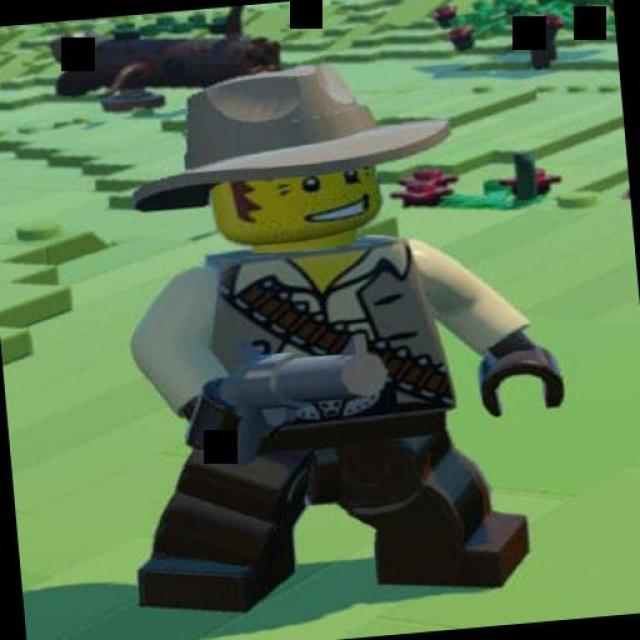gun: (180, 323, 390, 462)
